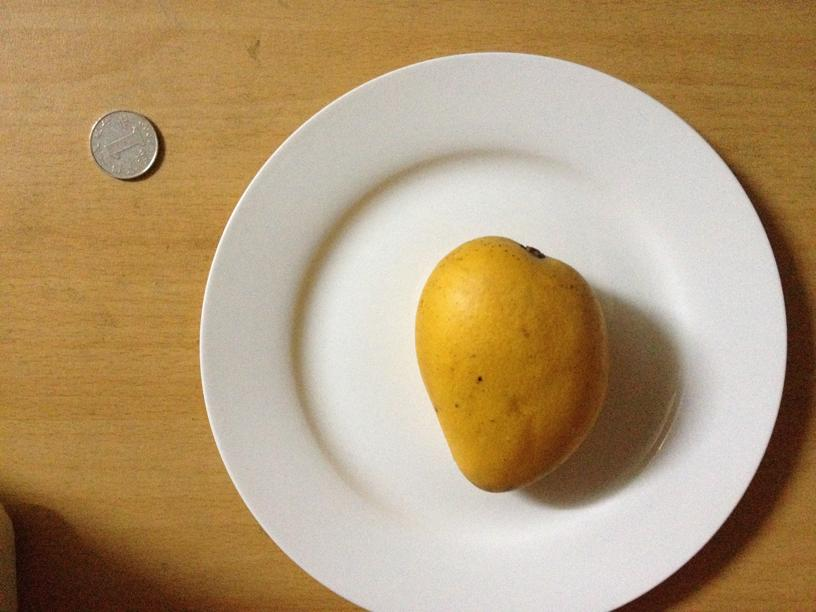coin: (87, 112, 159, 180)
mango: (420, 234, 606, 492)
